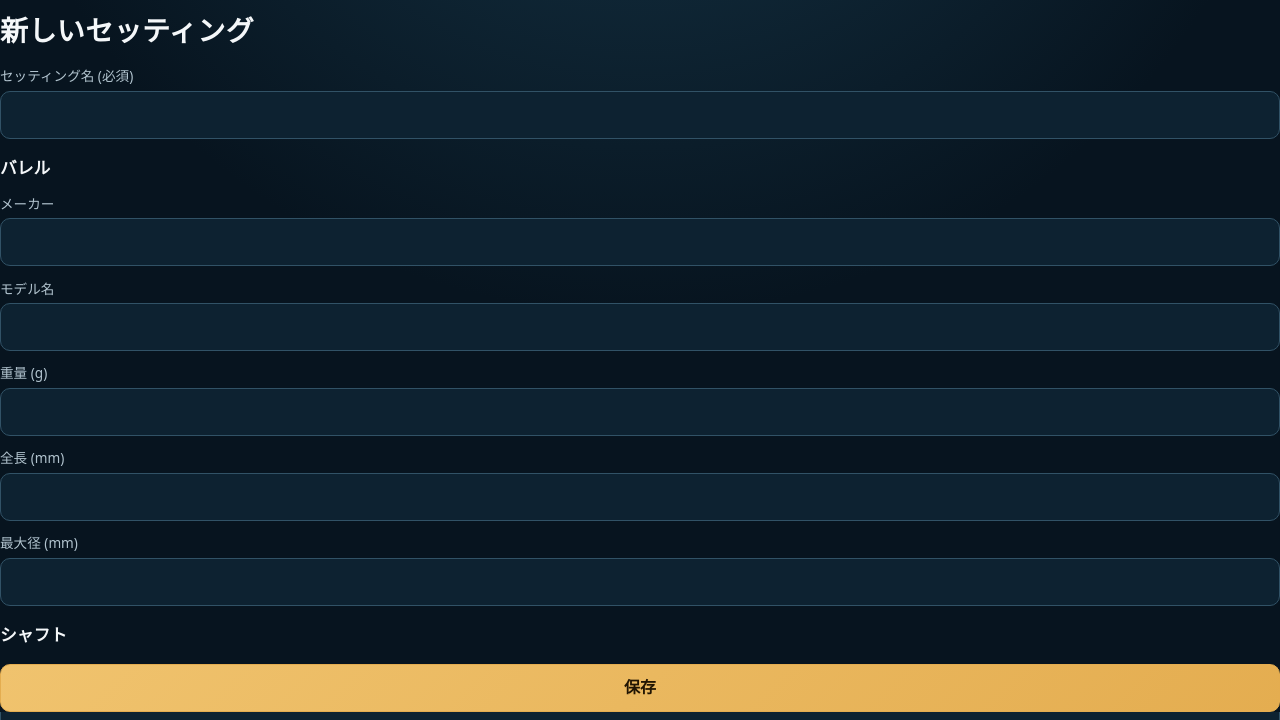
Scenario: EquipmentEditPage (セッティング保存) › 名前だけの最小構成で保存でき、一覧とIndexedDBへ反映される
Type "マイダーツA" into the field labelled "セッティング名 (必須)" at (640,114), box [0, 90, 1279, 138]
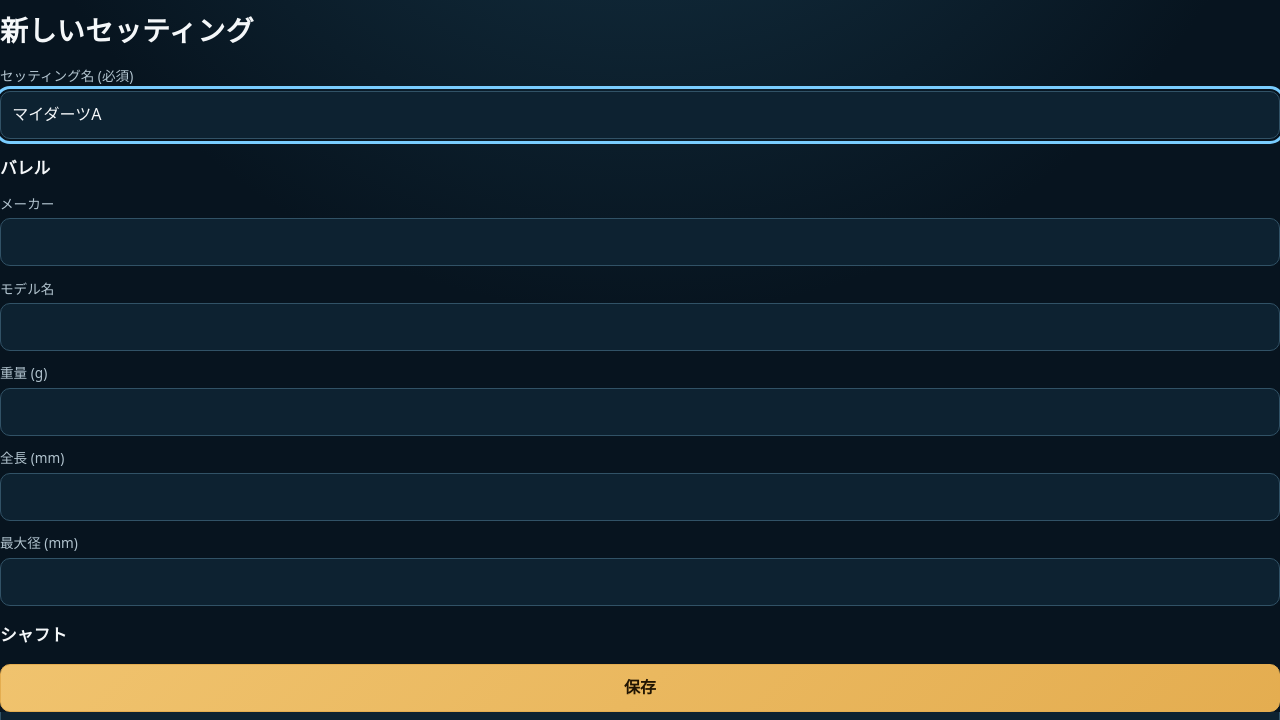
Click the button "保存" at (640,688), box [0, 664, 1279, 712]
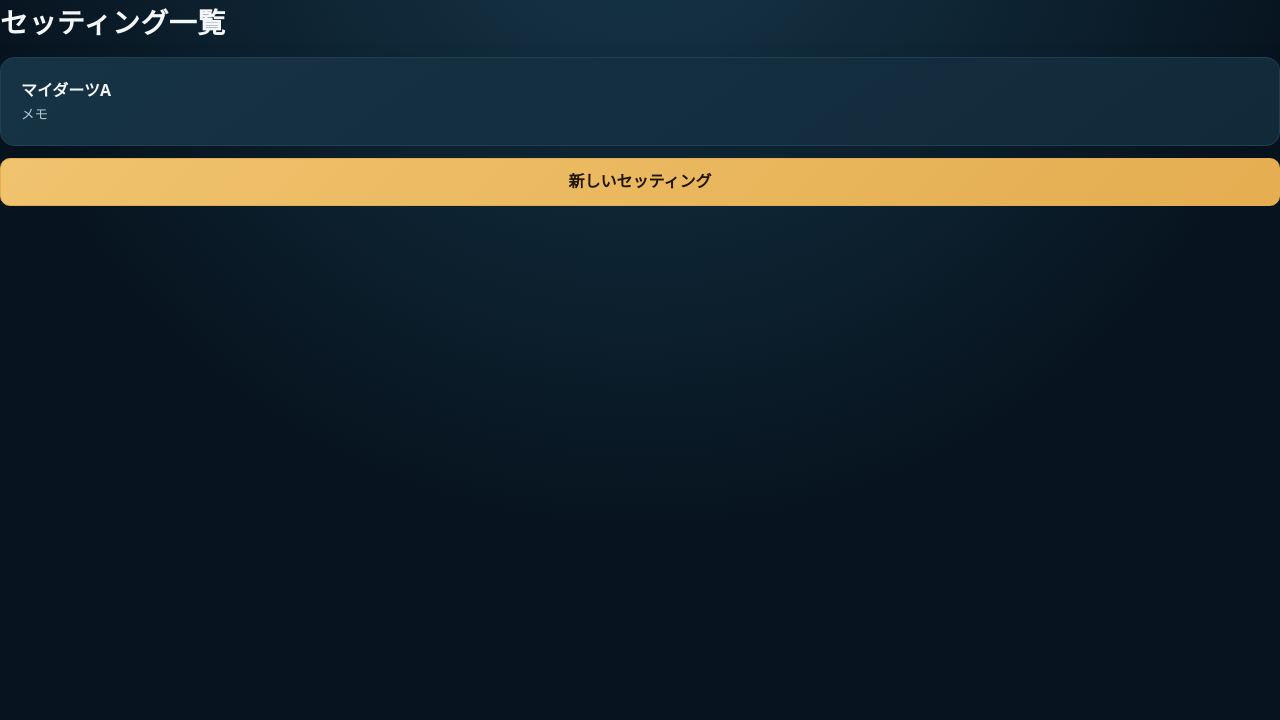
Check: the text "マイダーツA" is shown, box [21, 79, 111, 101]
